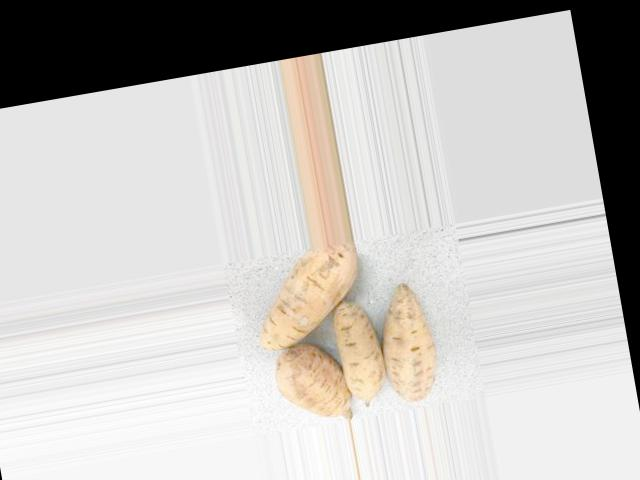sweet_potato: (236, 238, 382, 353)
